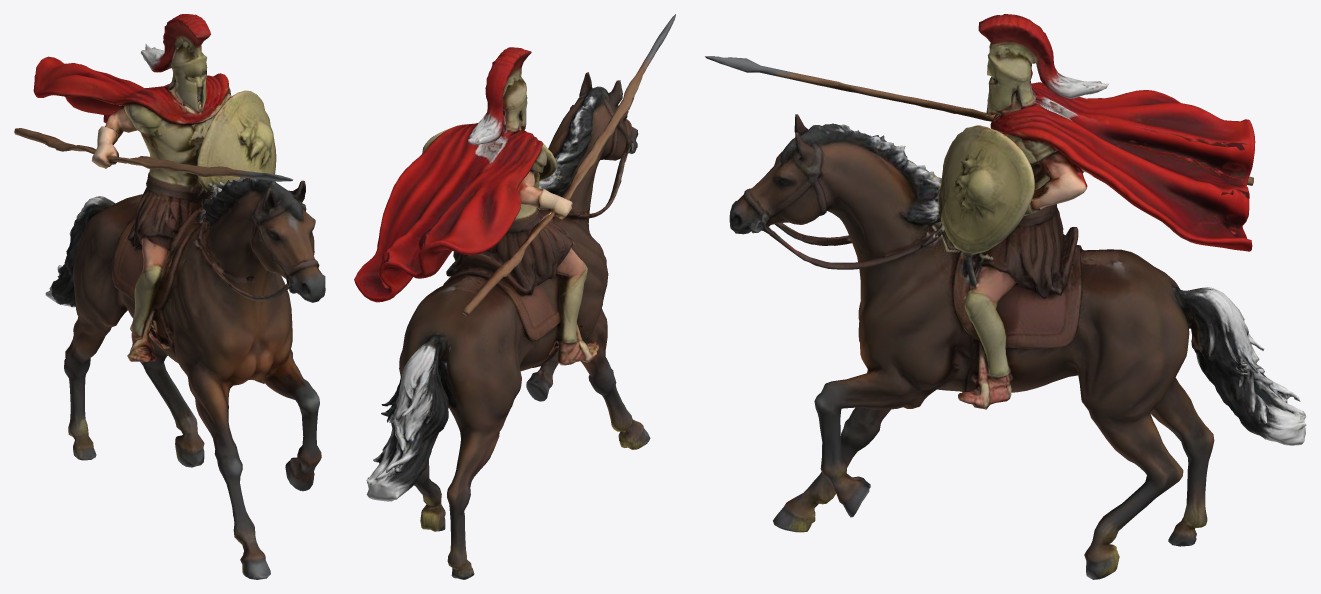
Rendered from Meshy_AI_ancient_greek_soldier_0318050520_texture.glb.
3 renders of one model, left to right at view 1: azimuth 30°, elevation 25°; view 2: azimuth 150°, elevation 25°; view 3: azimuth 270°, elevation 25°, orthographic. The views are drawn at different scales.
Parts seen in each view (by area): view 1: Mesh1.0; view 2: Mesh1.0; view 3: Mesh1.0.
Part boxes in pixels (x1,y1,x2,y2): Mesh1.0: (14,14,325,579); Mesh1.0: (354,14,675,579); Mesh1.0: (705,14,1306,579).
Bounding box in the file's own units: 0.6709 × 1.89 × 1.91.
1 material, 1 textured.
